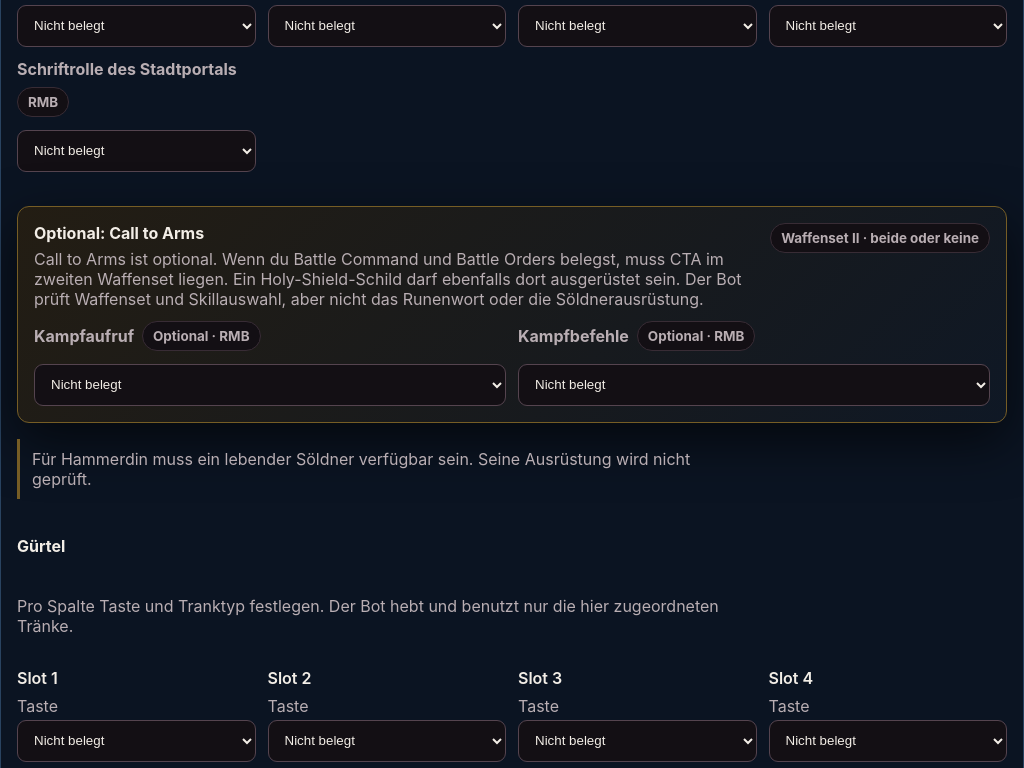
CharacterSetupWizard › zeigt Hammerdin mit Core-Readiness, LMB und optionalem CTA-Vertrag
(page scrolled)
Expected: the text "Waffenset II · beide oder keine" is shown, [781, 230, 979, 246]
Expected: the text "Seine Ausrüstung wird nicht geprüft" shows "Für Hammerdin muss ein lebender Söldner verfügbar sein.", [32, 448, 690, 488]
Select "F4" in the dropdown named "Kampfaufruf Taste" at [270, 384], box [34, 364, 506, 406]
(page scrolled)
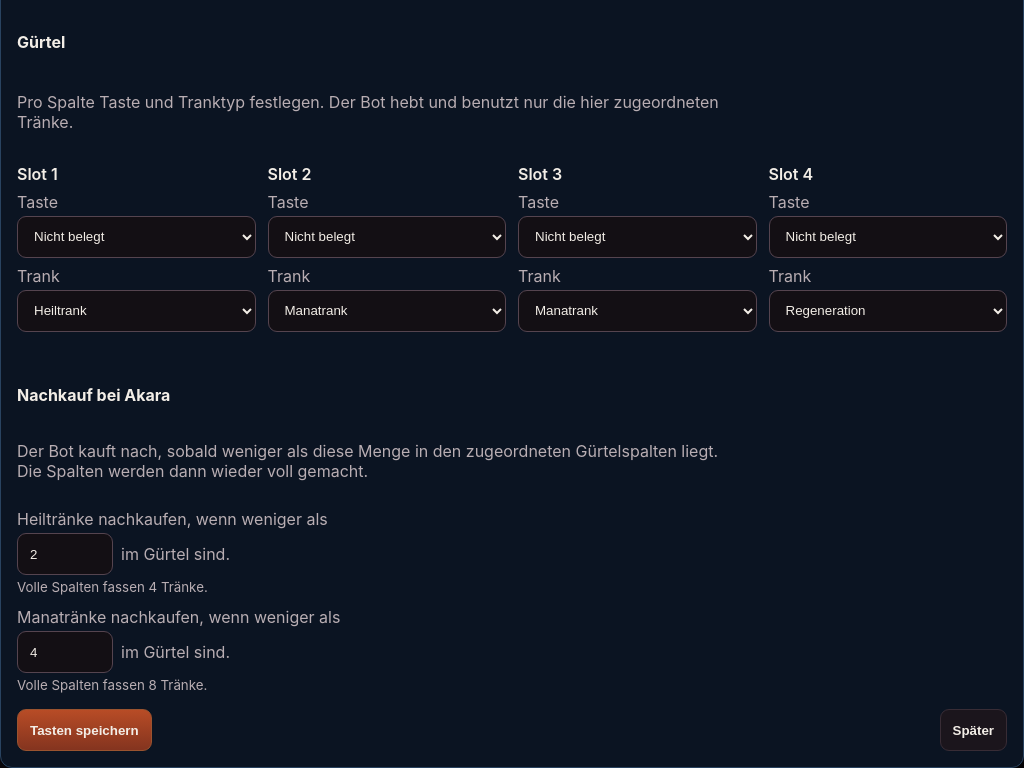
Click the button "Tasten speichern" at [84, 730], box [17, 709, 152, 751]
(page scrolled)
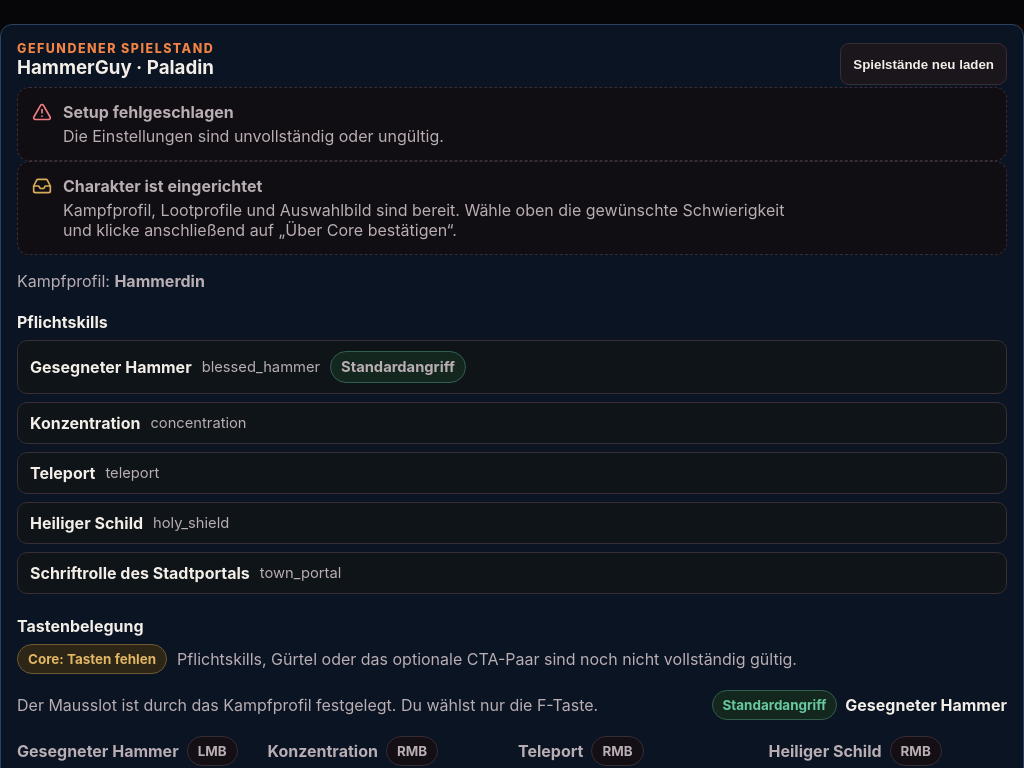
Now the message "Setup fehlgeschlagen Die Einstellungen sind unvollständig oder ungültig." is shown, box [17, 87, 1007, 161]
